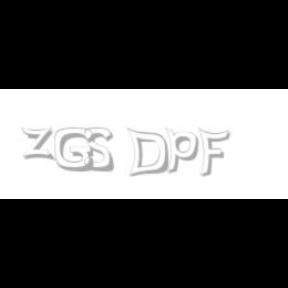D: (125, 128, 168, 178)
F: (198, 128, 230, 178)
G: (54, 128, 94, 172)
S: (84, 128, 115, 172)
p: (165, 128, 202, 174)
z: (21, 128, 57, 160)
